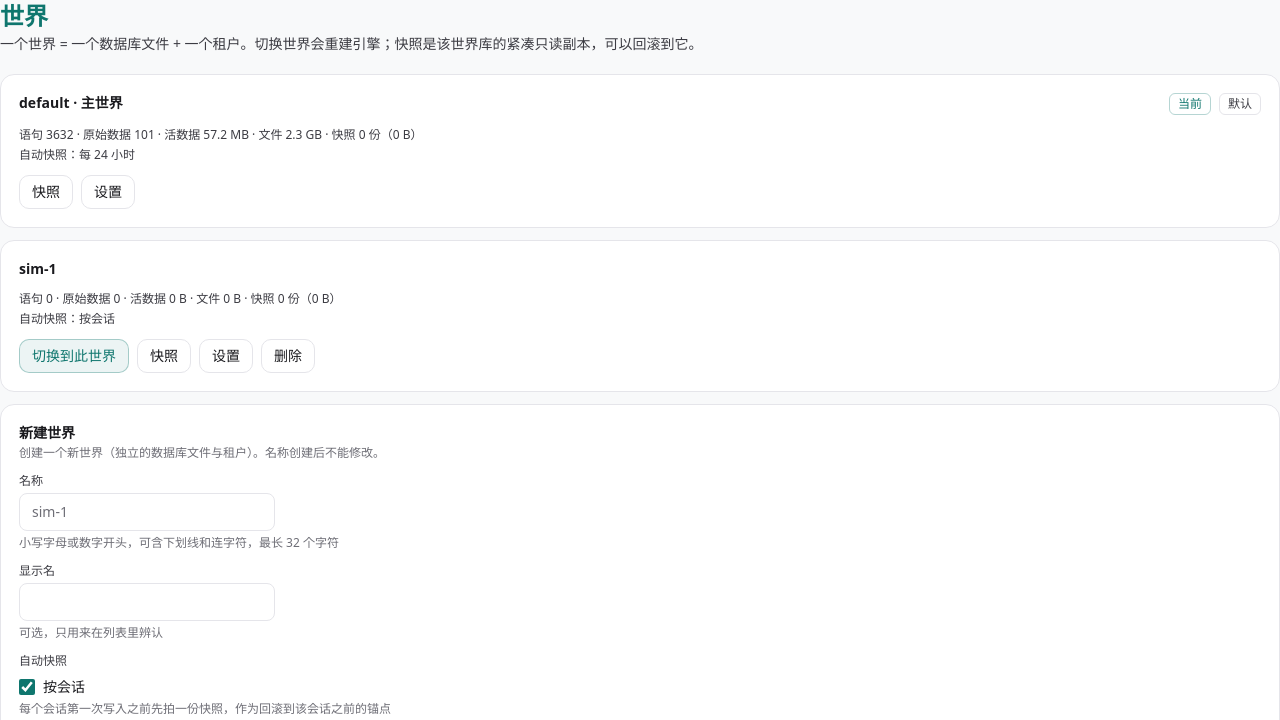
it: /worlds 切换 › 点「切换到此世界」只弹确认框,不直接切换
Click the button "切换到此世界". click: (74, 356)
box: top-left (19, 339), bottom-right (129, 373)
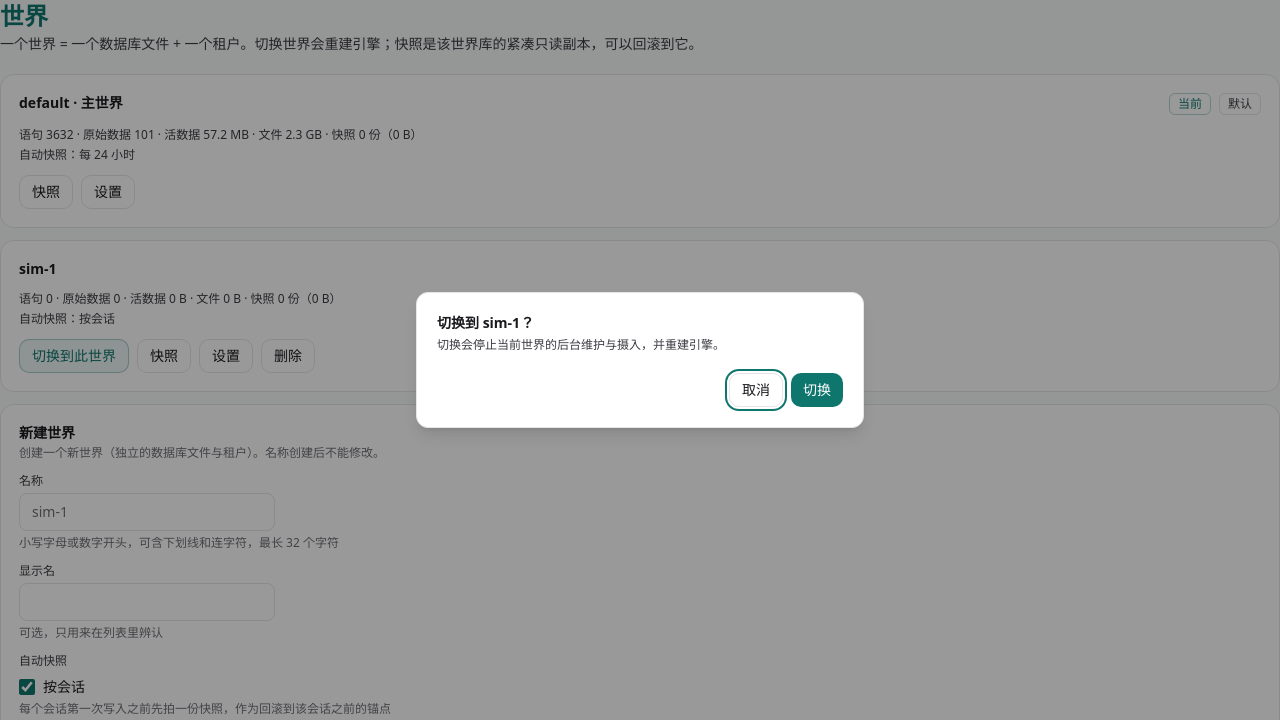
Now the text "切换到 sim-1？" is shown, box top-left (437, 313), bottom-right (534, 332)
Now the text "切换会停止当前世界的后台维护与摄入，并重建引擎。" is shown, box top-left (437, 336), bottom-right (725, 353)
